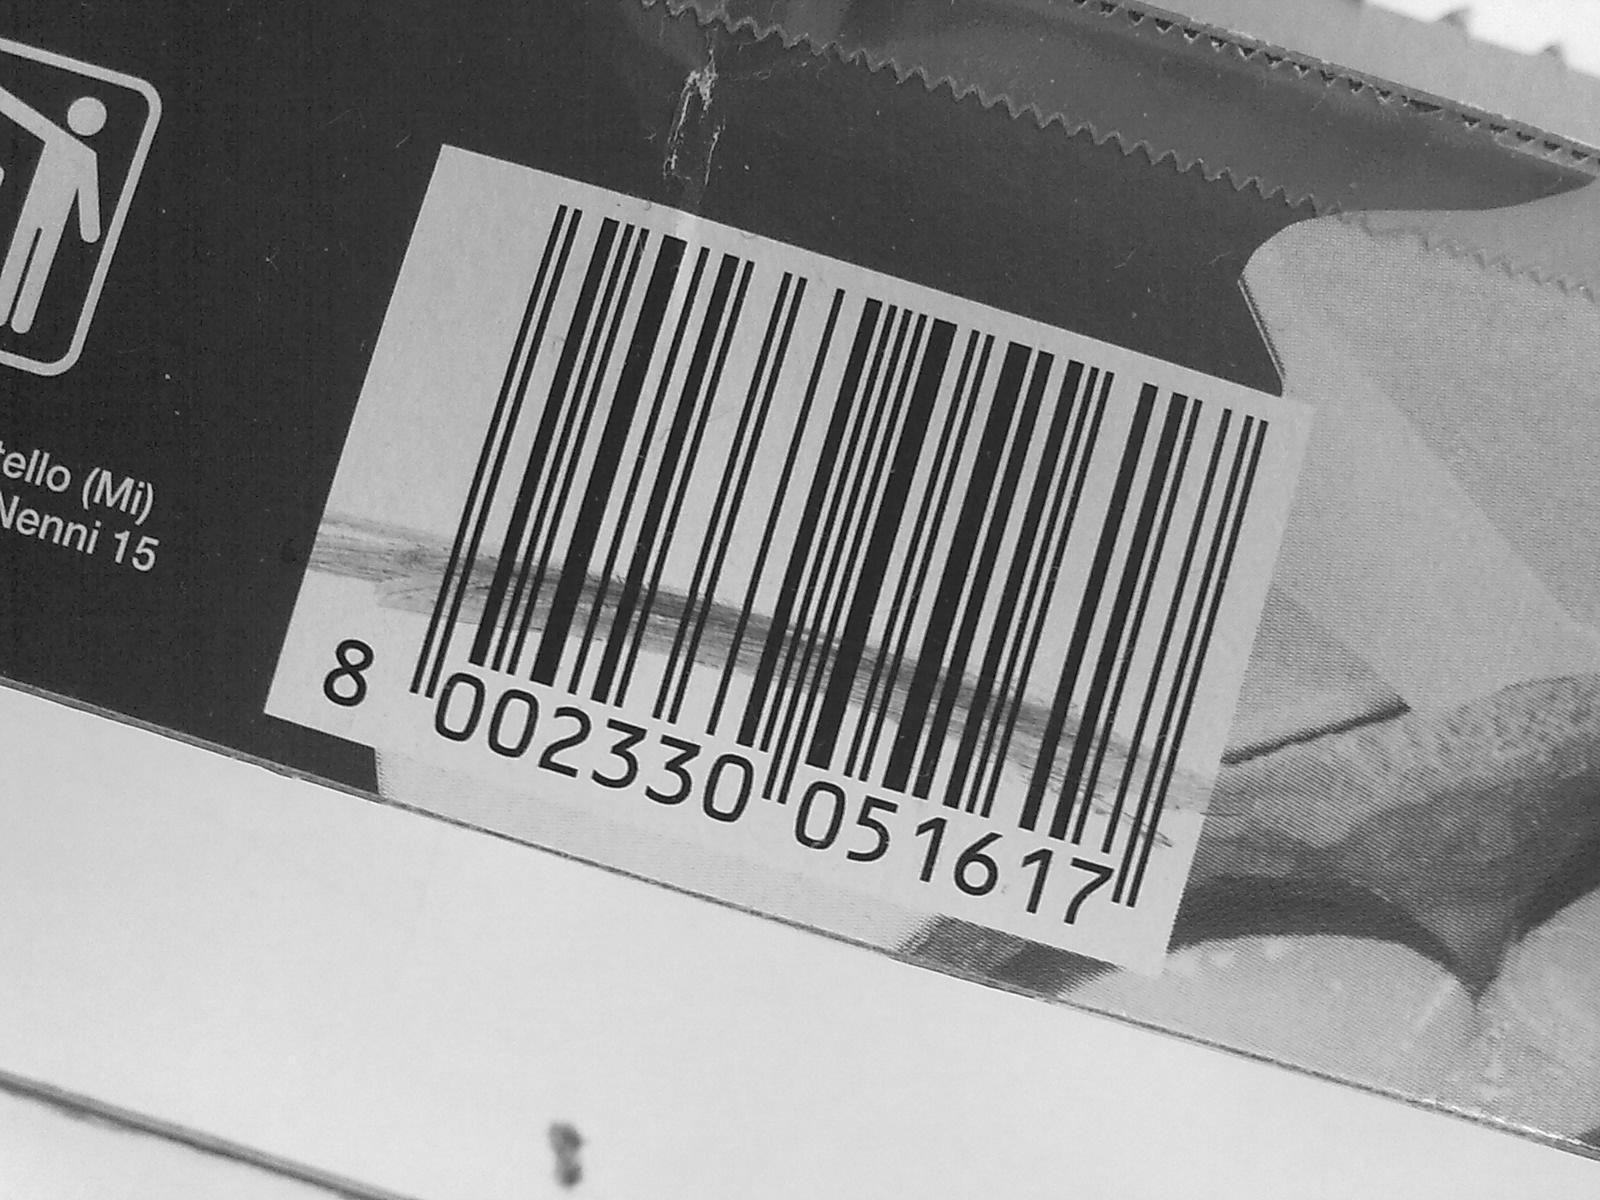Barcode: (435, 153, 1299, 885)
